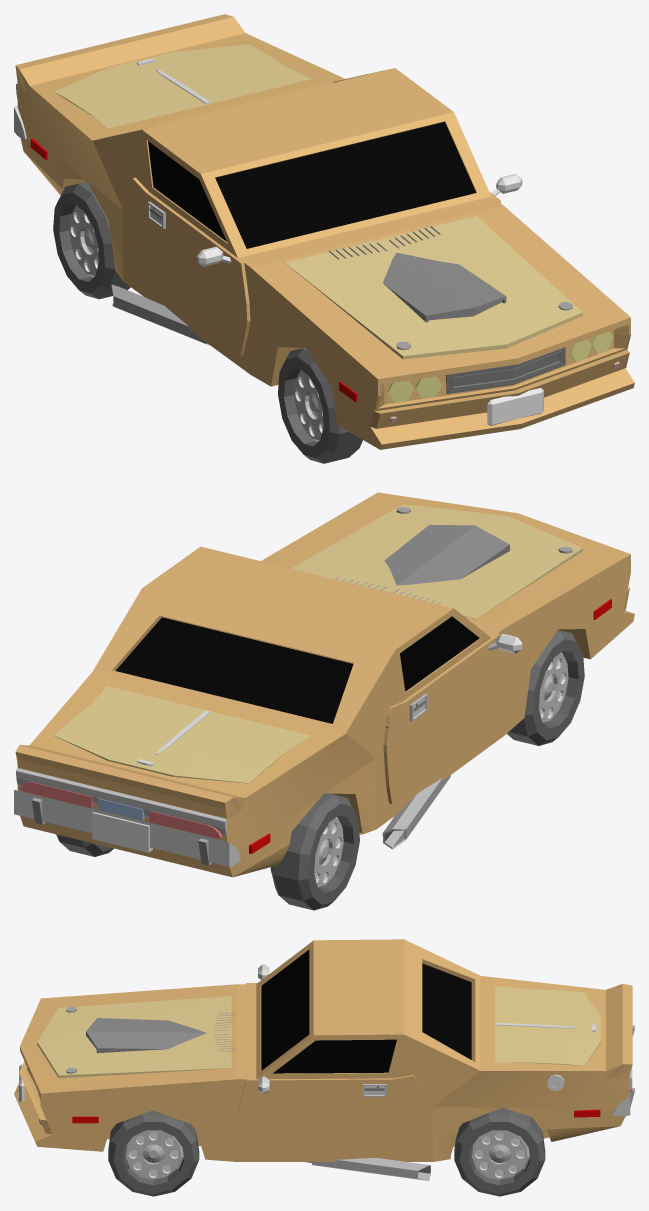
File: LowPoly1.glb
3 views of the same model, one above another, from view 1: azimuth 30°, elevation 25°; view 2: azimuth 150°, elevation 25°; view 3: azimuth 270°, elevation 25° (orthographic). The views are drawn at different scales.
Parts seen in each view (by area): view 1: Cube.1_2, Cube.1, Cube.7_3, Cube.2_2, Cylinder_4, Cylinder_1, Cube_2, Cylinder.2_2, plate, Cylinder_3, Cylinder, Cylinder_2 (+4 smaller); view 2: Cube.1_2, Cube.7_3, Cube.1, Cylinder_1, Cube.2_2, Cube.3_2, Cylinder_4, Cube.5_2, Cube.5_3, Cube.6_2, Cylinder.2_2, Cylinder_3 (+3 smaller); view 3: Cube.1_2, Cube.1, Cube.7_3, Cylinder_1, Cylinder_4, Cube.2_2, Cylinder_3, Cylinder, Cylinder.2_2.
Boxes of the visible parts, bbox=[...] form: Cube.1_2: bbox=[15, 14, 634, 449]; Cube.1: bbox=[285, 216, 582, 359]; Cube.7_3: bbox=[54, 44, 310, 128]; Cube.2_2: bbox=[381, 246, 506, 322]; Cylinder_4: bbox=[278, 347, 362, 463]; Cylinder_1: bbox=[53, 181, 130, 299]; Cube_2: bbox=[446, 347, 565, 393]; Cylinder.2_2: bbox=[111, 284, 209, 345]; plate: bbox=[487, 388, 543, 425]; Cylinder_3: bbox=[294, 370, 323, 441]; Cylinder: bbox=[69, 205, 98, 277]; Cylinder_2: bbox=[59, 204, 93, 281]; Cube.1_2: bbox=[15, 492, 634, 877]; Cube.7_3: bbox=[54, 686, 311, 783]; Cube.1: bbox=[291, 504, 582, 619]; Cylinder_1: bbox=[56, 793, 359, 910]; Cube.2_2: bbox=[384, 524, 509, 592]; Cube.3_2: bbox=[14, 790, 240, 866]; Cylinder_4: bbox=[507, 630, 584, 745]; Cube.5_2: bbox=[16, 768, 226, 835]; Cube.5_3: bbox=[20, 782, 221, 838]; Cube.6_2: bbox=[92, 812, 153, 852]; Cylinder.2_2: bbox=[382, 775, 450, 849]; Cylinder_3: bbox=[539, 652, 568, 723]; Cube.1_2: bbox=[14, 939, 632, 1161]; Cube.1: bbox=[37, 996, 231, 1078]; Cube.7_3: bbox=[495, 986, 600, 1065]; Cylinder_1: bbox=[454, 1107, 545, 1196]; Cylinder_4: bbox=[108, 1110, 199, 1196]; Cube.2_2: bbox=[86, 1018, 206, 1053]; Cylinder_3: bbox=[123, 1130, 183, 1180]; Cylinder: bbox=[469, 1130, 529, 1180]; Cylinder.2_2: bbox=[305, 1157, 430, 1180].
Size of the model in its own units: 2.56 by 1.6 by 5.52.
